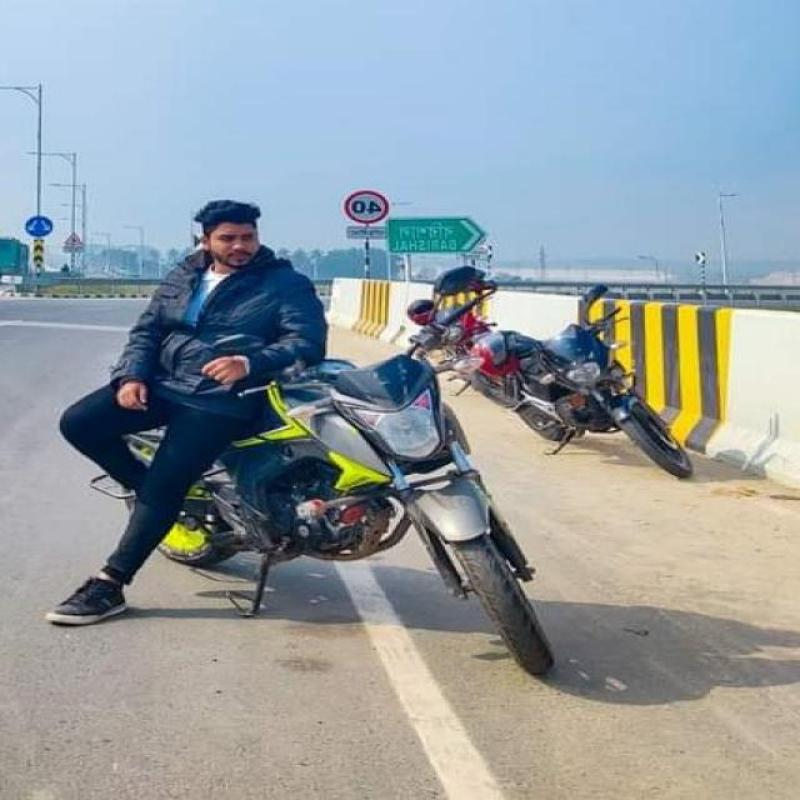nohelmet: (170, 190, 288, 276)
